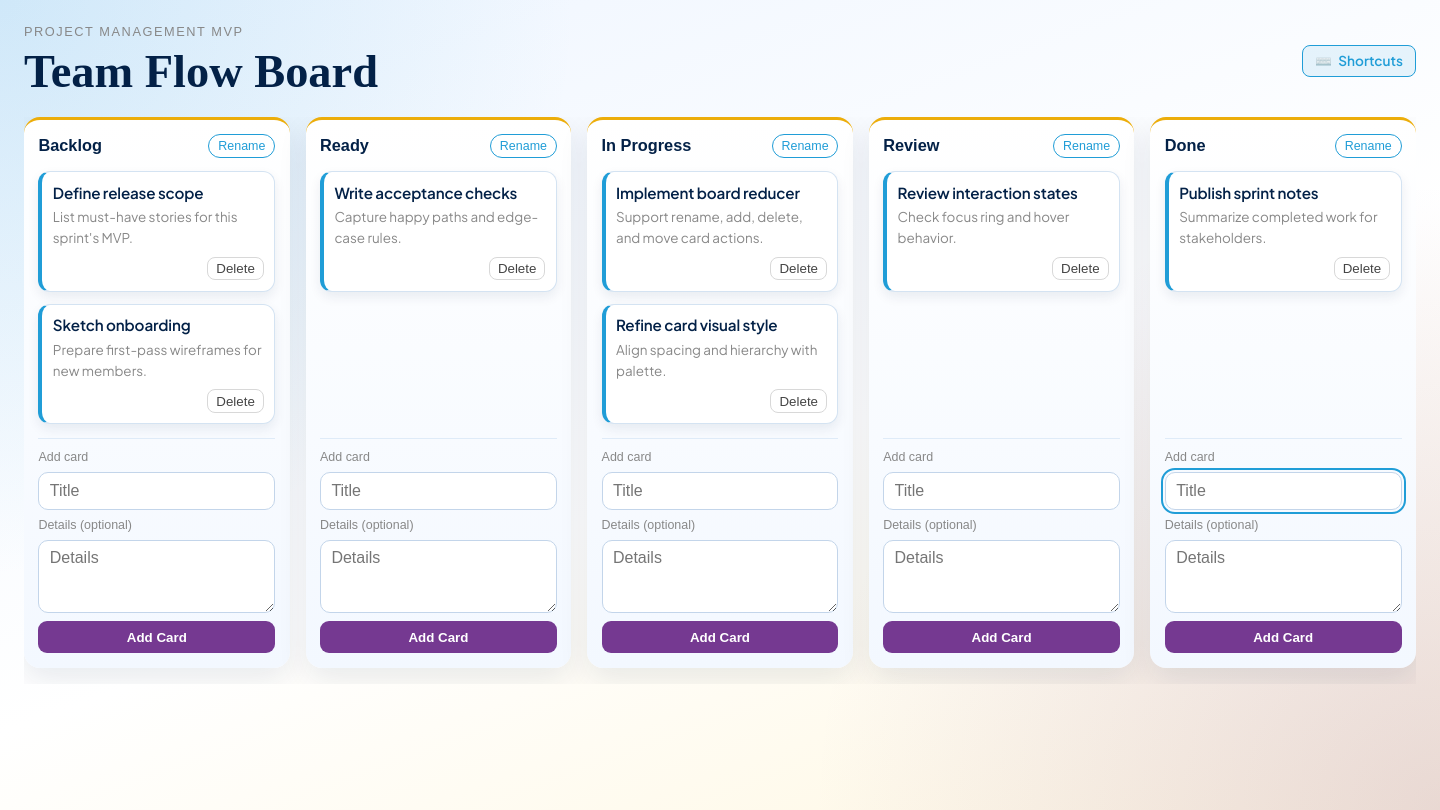
Scenario: Accessibility Tests › Keyboard Navigation › Escape key closes dialogs
# Open delete dialog using testid
Click the button with test id "delete-card-task-1" at [236, 269], box [207,257,264,280]
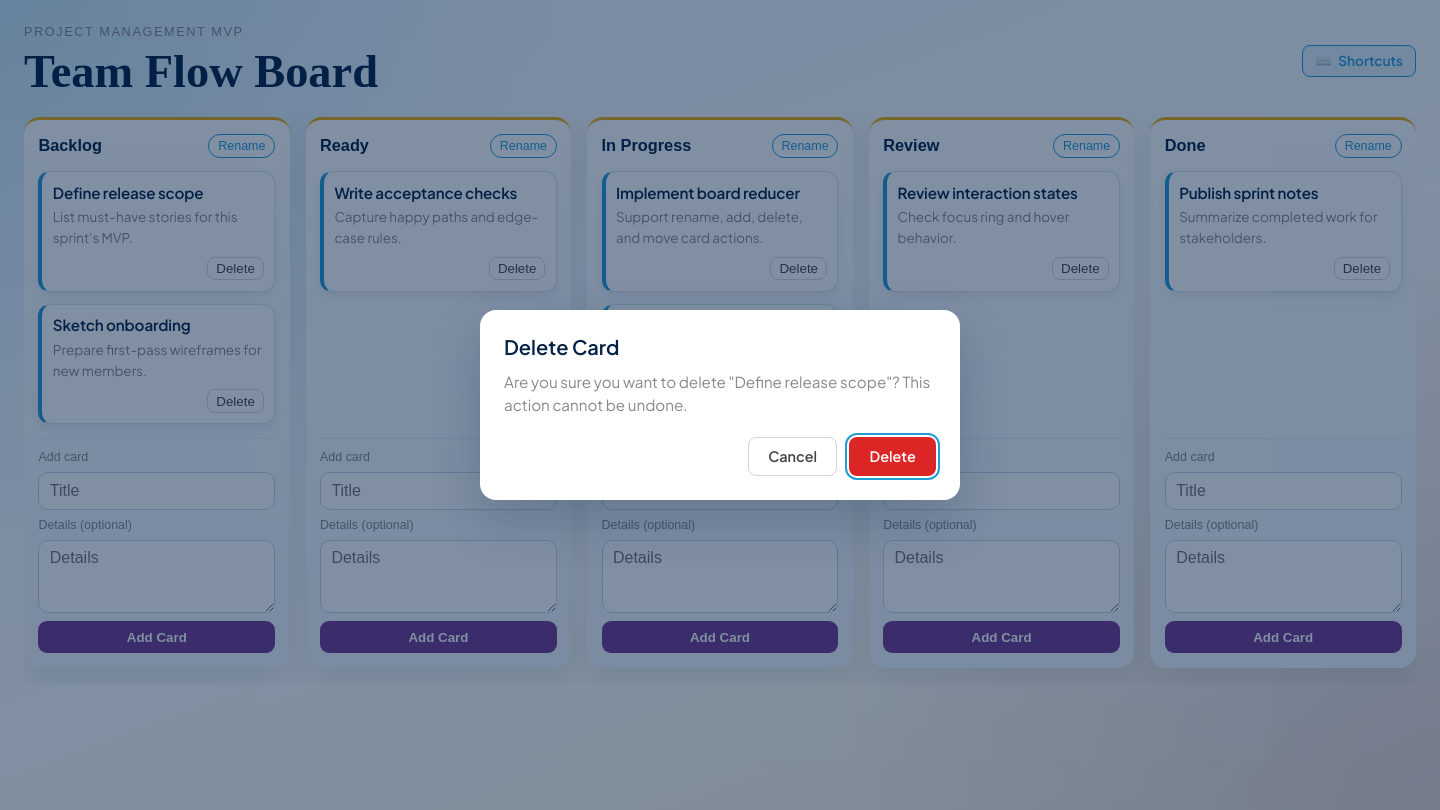
Expected: the dialog is shown, [480,310,960,500]
# Press Escape
Press Escape
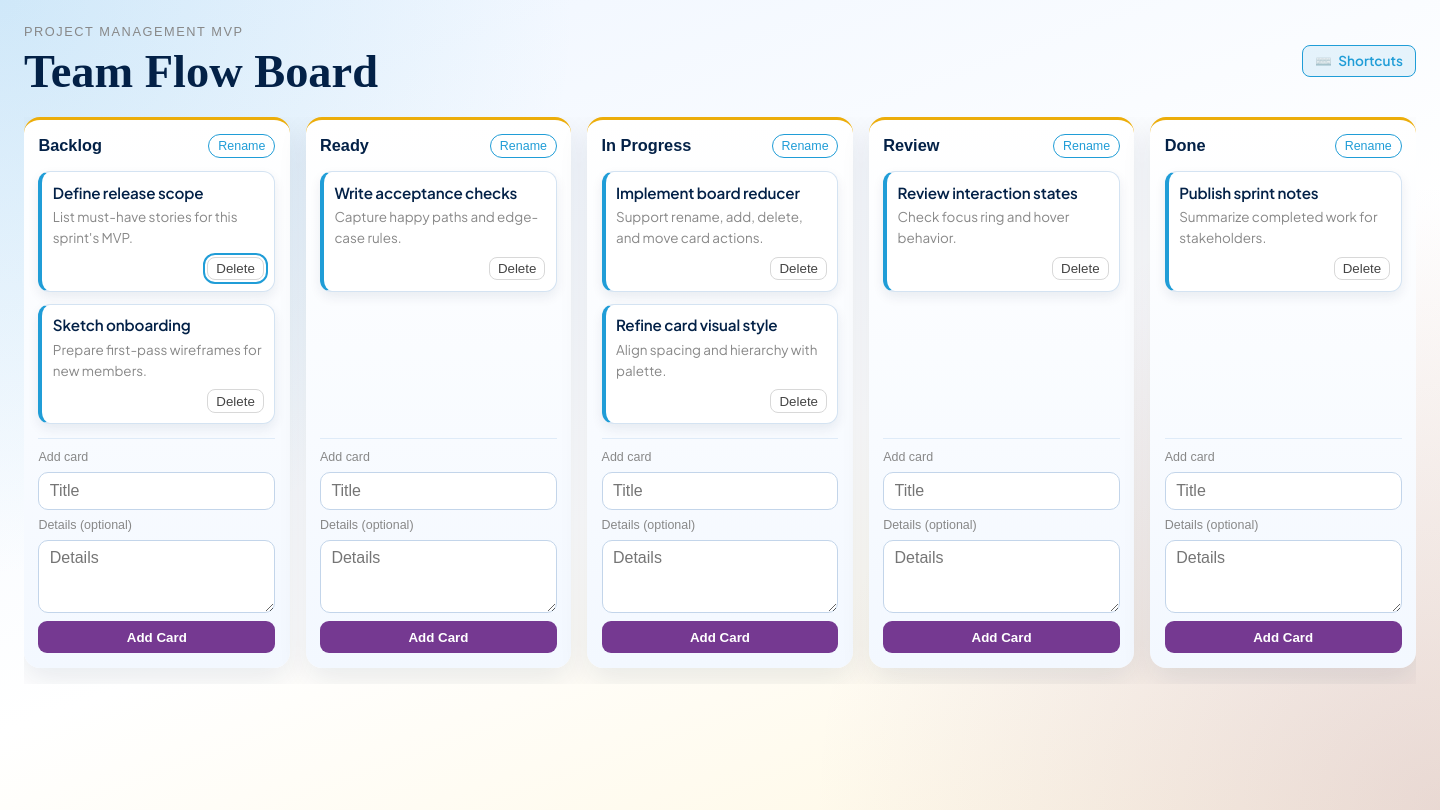
Expected: the dialog is gone
